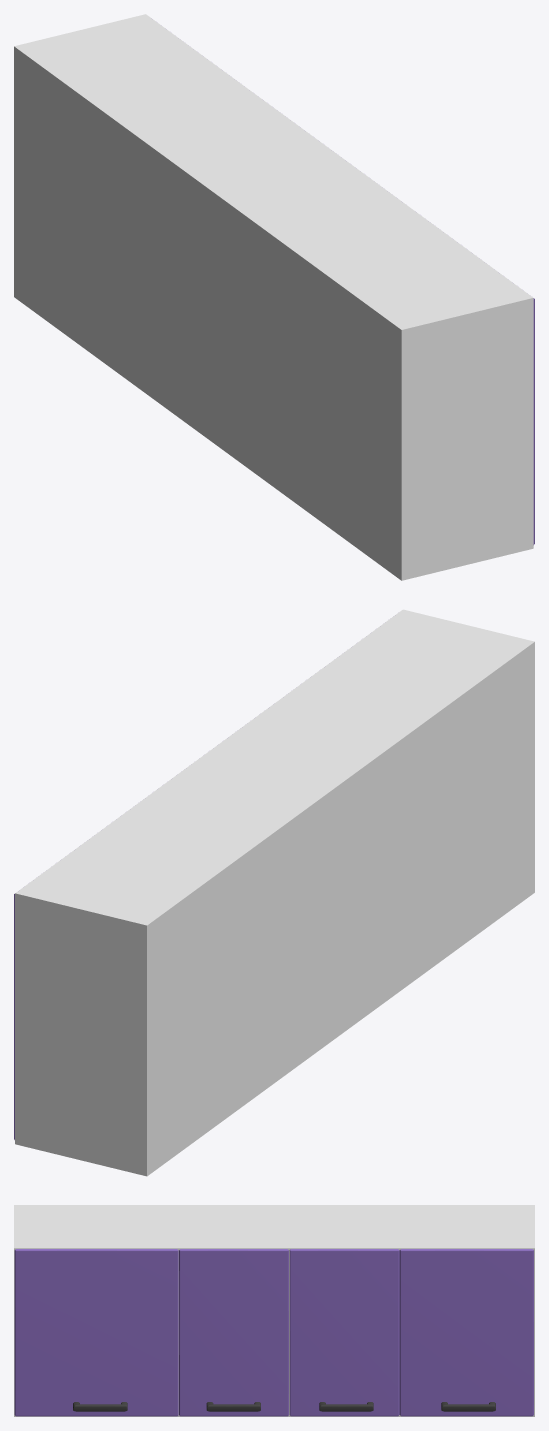
Rendered from kitchen_069.fbx.
3 views of the same model, one above another, from view 1: azimuth 30°, elevation 25°; view 2: azimuth 150°, elevation 25°; view 3: azimuth 270°, elevation 25° (orthographic). The views are drawn at different scales.
Parts seen in each view (by area): view 1: kitchen_069; view 2: kitchen_069; view 3: kitchen_069.
Part boxes in pixels (box(x1,y1,x2,y2)): kitchen_069: box(14, 14, 534, 580); kitchen_069: box(14, 609, 534, 1176); kitchen_069: box(14, 1205, 534, 1416).
Bounding box in the file's own units: 64.12 × 294 × 105.
